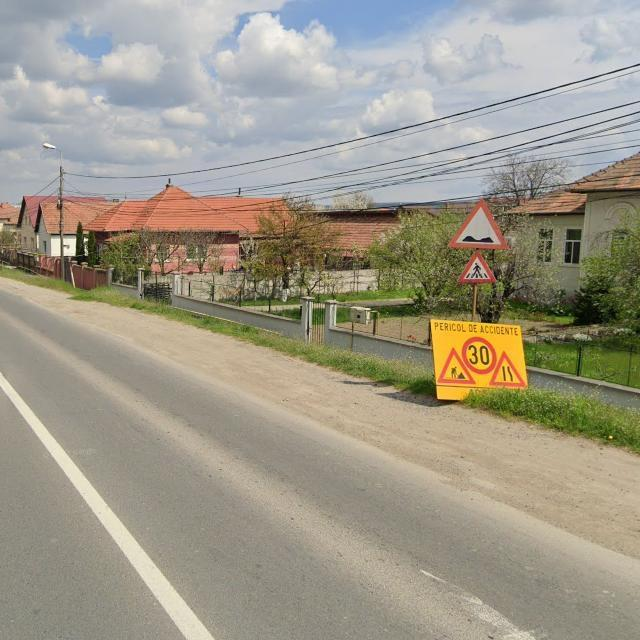forb_speed_over_30: (462, 336, 497, 376)
warn_crosswalk: (458, 250, 497, 283)
